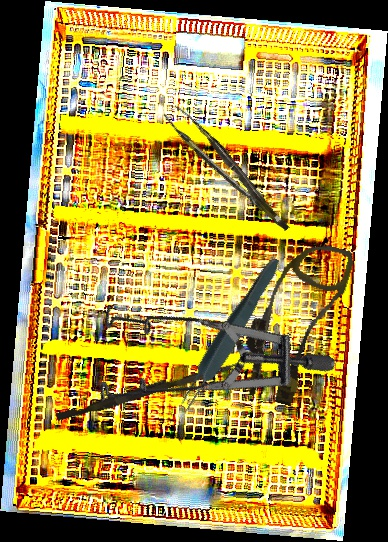Cannula: (232, 231, 357, 412)
Pusher: (55, 355, 240, 426)
Speculum: (60, 235, 340, 501)
Tissue Forceps: (162, 96, 290, 246), (172, 252, 286, 417)
